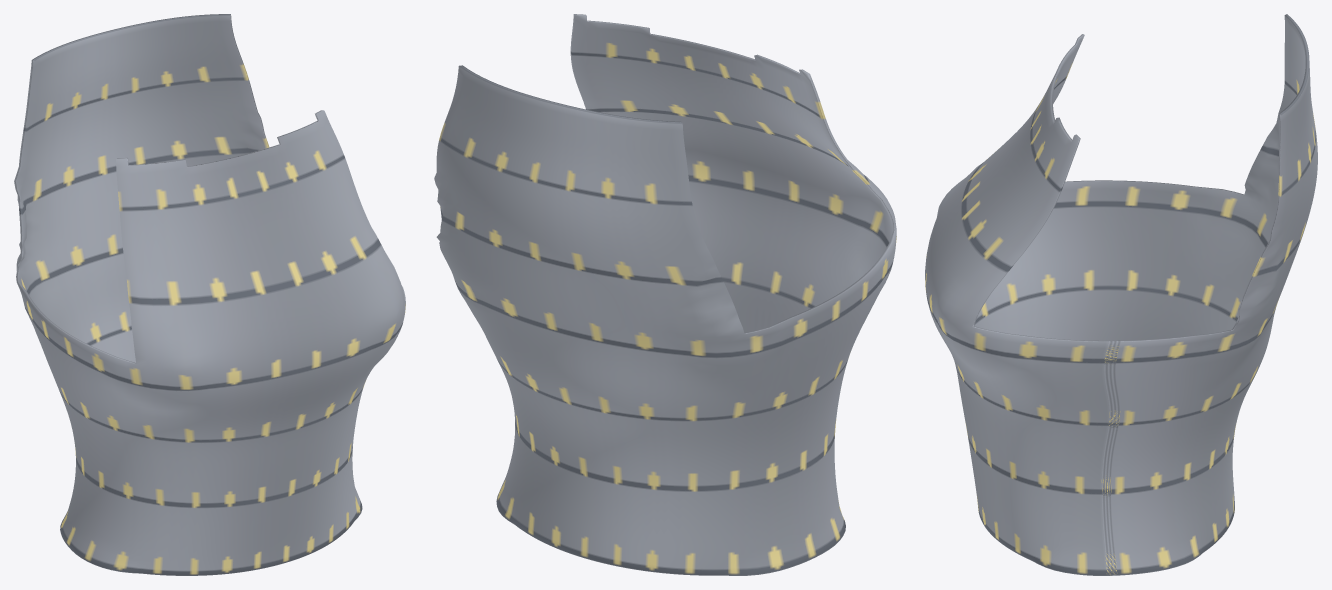
File: _fixture_armor_banjia.glb
3 views of the same model, side by side, from view 1: azimuth 30°, elevation 25°; view 2: azimuth 150°, elevation 25°; view 3: azimuth 270°, elevation 25° (orthographic). The views are drawn at different scales.
Visible parts, largest first — view 1: _fixture_armor_banjia; view 2: _fixture_armor_banjia; view 3: _fixture_armor_banjia.
Boxes of the visible parts, <box> form: _fixture_armor_banjia: <box>14,14,405,575</box>; _fixture_armor_banjia: <box>434,14,896,575</box>; _fixture_armor_banjia: <box>925,14,1317,575</box>.
Bounding box in the file's own units: 0.1859 × 0.2374 × 0.1906.
1 material, 1 textured.
